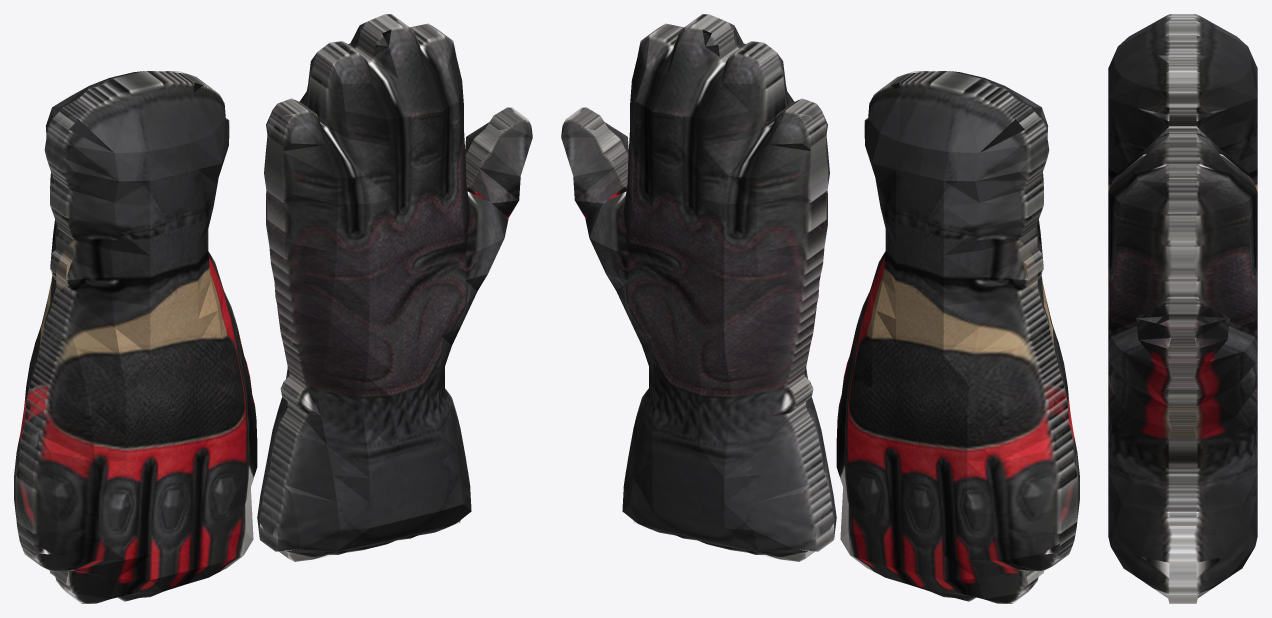
Rendered from rukka-nomad-winter-glove-087.glb.
The picture shows the model from 3 angles, left to right: view 1: azimuth 30°, elevation 25°; view 2: azimuth 150°, elevation 25°; view 3: azimuth 270°, elevation 25°; orthographic projection. The views are drawn at different scales.
Parts seen in each view (by area): view 1: world; view 2: world; view 3: world.
Boxes of the visible parts, <box> form: world: <box>14,14,532,603</box>; world: <box>561,14,1079,603</box>; world: <box>1108,14,1257,603</box>.
Bounding box in the file's own units: 1 × 0.9873 × 0.3.
1 material, 1 textured.
